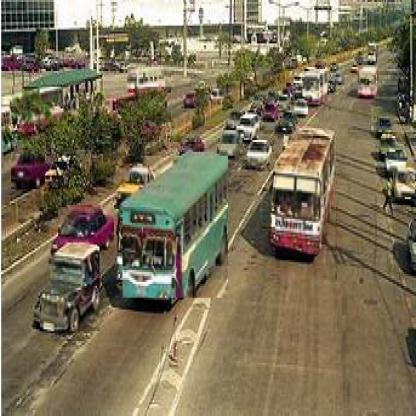bus: (122, 157, 229, 301), (275, 127, 337, 271), (9, 88, 69, 127), (127, 66, 172, 90), (304, 70, 330, 107), (358, 66, 380, 98)
car: (40, 248, 100, 334), (58, 206, 115, 246), (116, 165, 153, 208), (11, 155, 46, 192), (247, 143, 273, 172), (220, 131, 243, 159), (394, 173, 416, 200), (387, 149, 409, 176), (244, 117, 261, 143), (381, 137, 397, 155), (381, 115, 397, 131), (295, 102, 309, 118), (185, 90, 195, 111), (229, 114, 241, 130), (279, 98, 290, 115), (266, 106, 277, 122), (214, 88, 226, 102), (336, 74, 345, 88)
